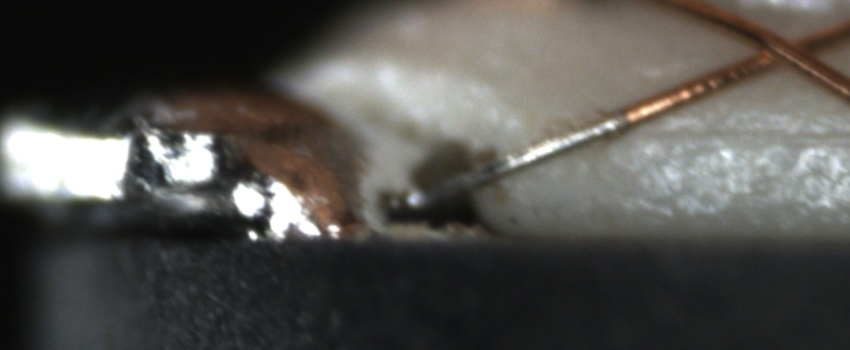CL: (739, 20, 837, 79)
DL: (620, 101, 850, 165)
TS: (391, 110, 631, 208)
